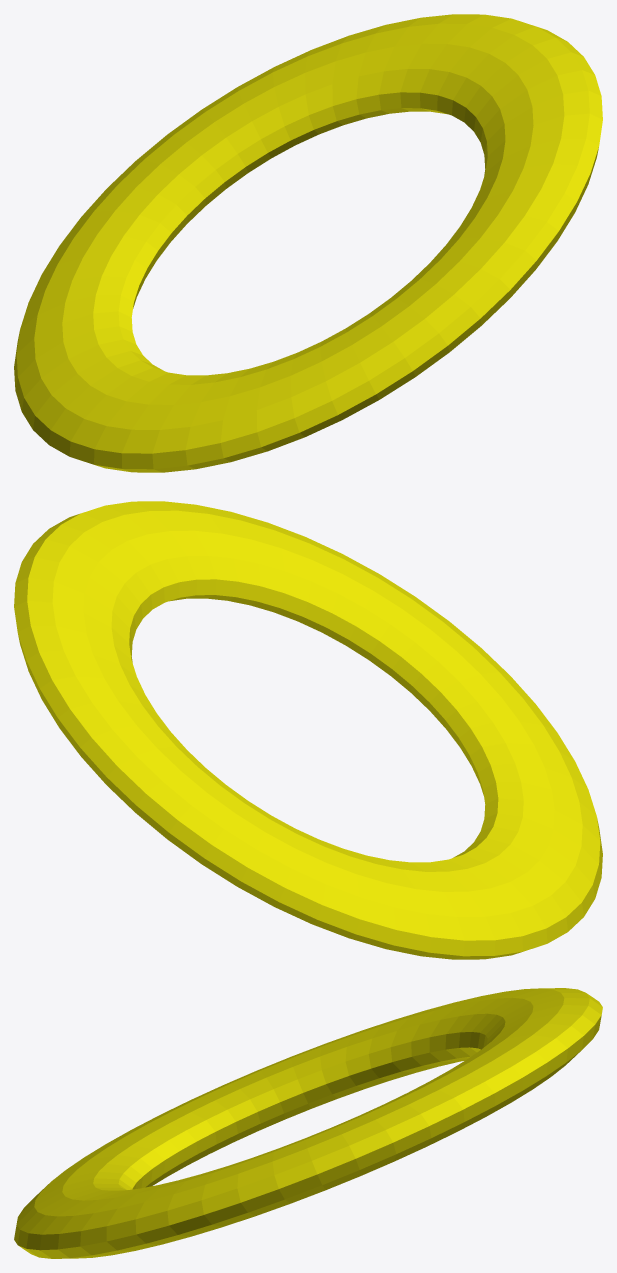
Rendered from halo 1.fbx.
3 views of the same model, one above another, from view 1: azimuth 30°, elevation 25°; view 2: azimuth 150°, elevation 25°; view 3: azimuth 330°, elevation 25° (orthographic).
Visible parts, largest first — view 1: Torus; view 2: Torus; view 3: Torus.
Part boxes in pixels (<box>): Torus: <box>14,14,602,472</box>; Torus: <box>14,501,602,959</box>; Torus: <box>14,988,602,1258</box>.
Size of the model in its own units: 223 by 119 by 207.
